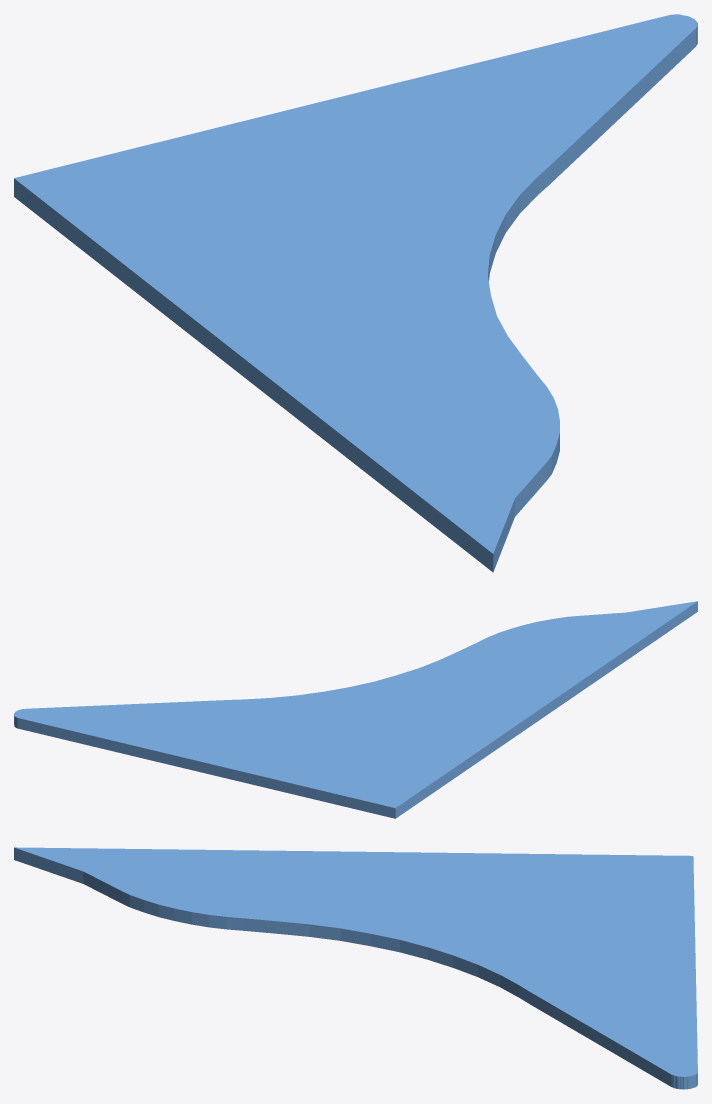
3 views of the same model, one above another, from view 1: azimuth 30°, elevation 25°; view 2: azimuth 150°, elevation 25°; view 3: azimuth 270°, elevation 25° (orthographic). The views are drawn at different scales.
Bounding box in the file's own units: 120 × 3.05 × 151.
